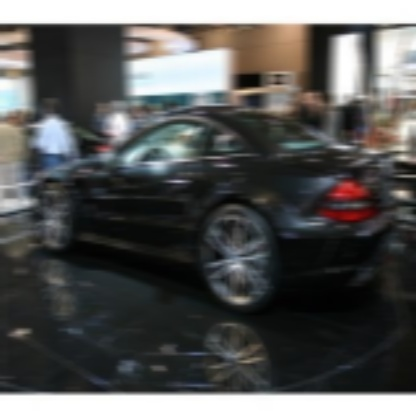Vehicle: (34, 103, 402, 314)
